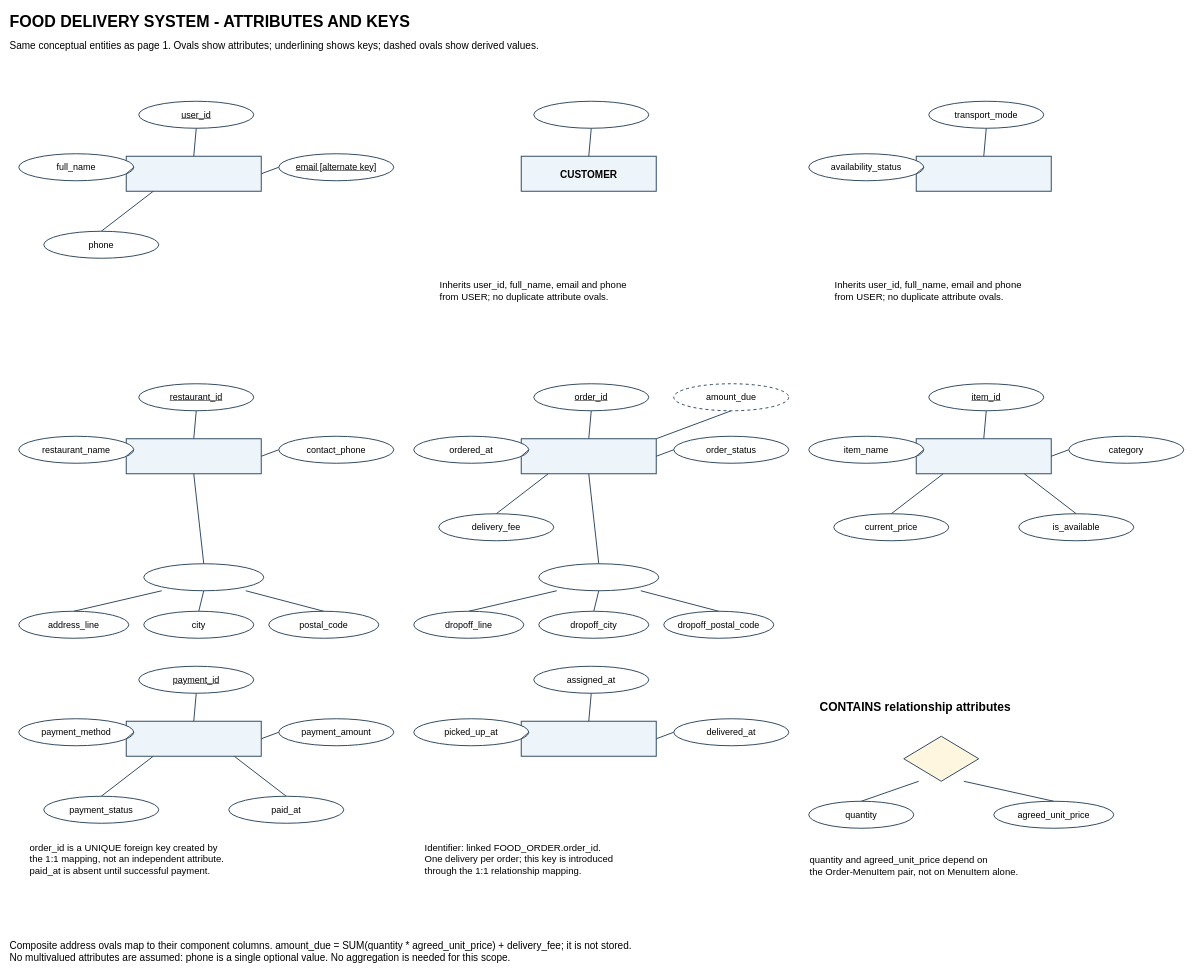
Image size: 1193x980. Some labels were removed from this diagram. The shapes that lost their labels are listed below. From the top down, each one's box as (x1, y1, x2, y2) in pixels, then its label:
(533, 100, 649, 128): customer_since
(126, 156, 262, 192): USER
(916, 156, 1052, 192): DELIVERY_PARTNER
(126, 438, 262, 474): RESTAURANT
(520, 438, 656, 474): FOOD_ORDER
(916, 438, 1052, 474): MENU_ITEM
(143, 563, 264, 591): address
(538, 563, 659, 591): dropoff_address
(126, 720, 262, 756): PAYMENT
(520, 720, 656, 756): DELIVERY
(903, 736, 979, 782): CONTAINS
